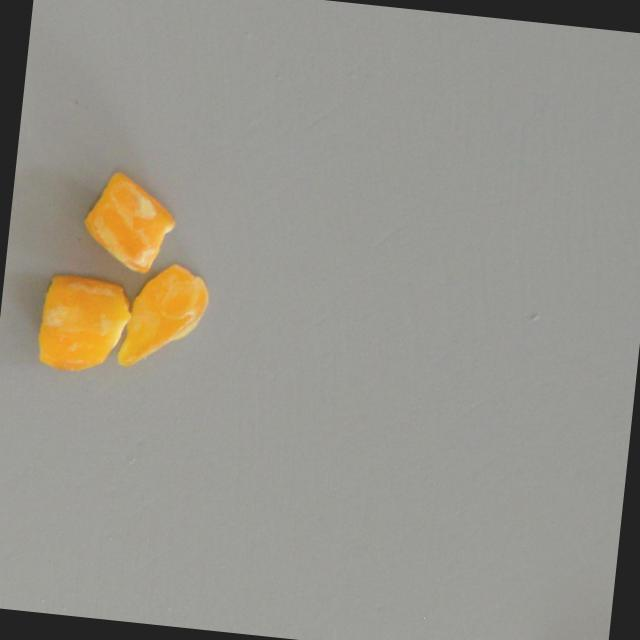pelicula: (76, 167, 180, 276), (115, 258, 211, 376), (31, 269, 133, 378)
